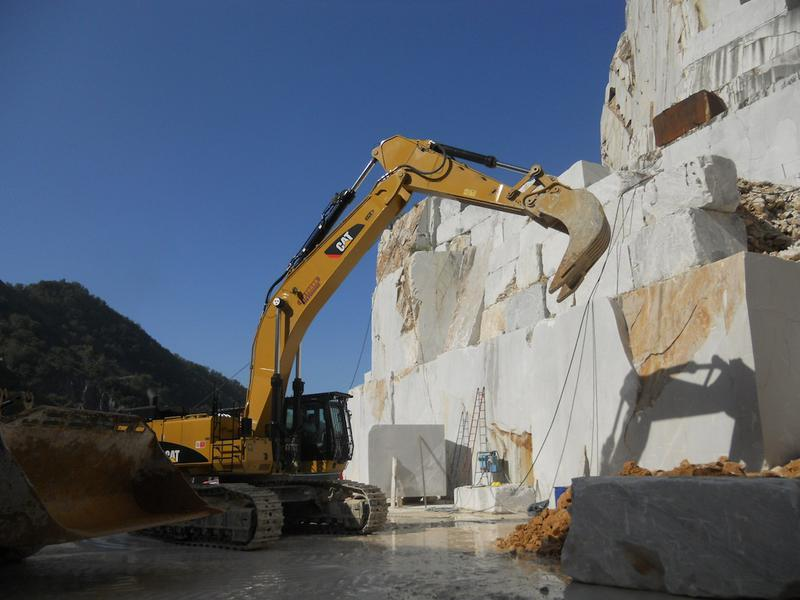shovel: (172, 131, 615, 552)
